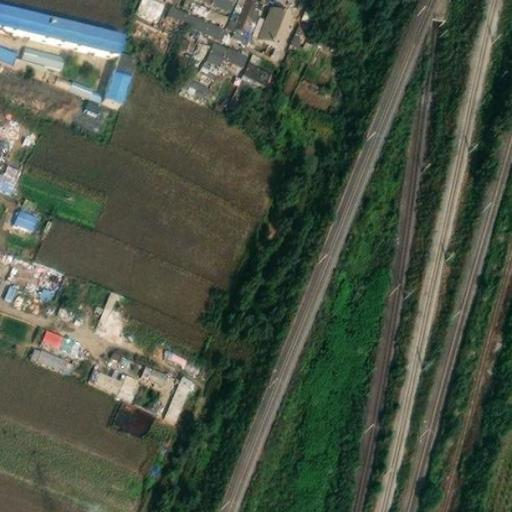building: (108, 398, 156, 441), (101, 49, 136, 103), (202, 35, 250, 68), (57, 71, 104, 104), (165, 371, 195, 417), (39, 321, 82, 352), (75, 96, 111, 131), (102, 345, 140, 377), (95, 300, 129, 334), (178, 67, 212, 97), (20, 38, 64, 60), (244, 50, 279, 77), (87, 364, 122, 390), (32, 341, 68, 366), (156, 342, 189, 368), (0, 157, 22, 189), (12, 202, 39, 227), (139, 359, 169, 380), (285, 26, 308, 52), (0, 282, 21, 304), (36, 284, 57, 303), (0, 37, 16, 58)
